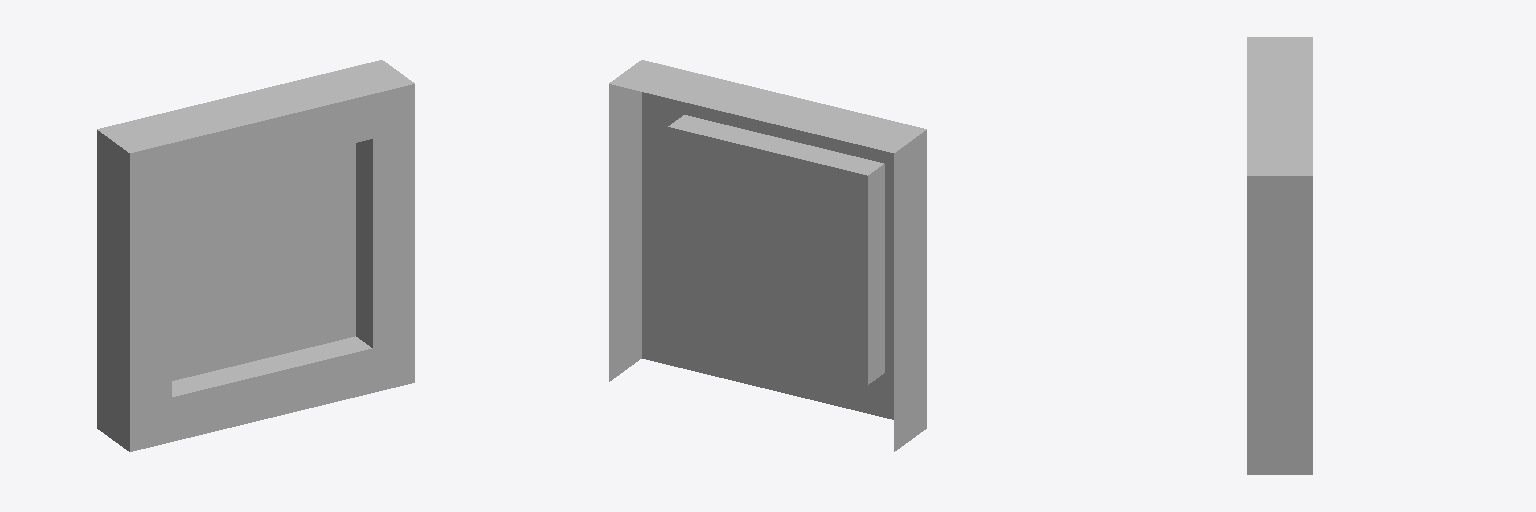
Rendered from door.obj.
The picture shows the model from 3 angles: view 1: azimuth 30°, elevation 25°; view 2: azimuth 150°, elevation 25°; view 3: azimuth 270°, elevation 25°; orthographic projection.
Parts seen in each view (by area): view 1: door_Cube.005; view 2: door_Cube.005; view 3: door_Cube.005.
Part boxes in pixels (x1,y1,x2,y2): door_Cube.005: (97,60,414,451); door_Cube.005: (609,60,926,451); door_Cube.005: (1247,37,1312,474).
Bounding box in the file's own units: 1 × 1 × 0.2.